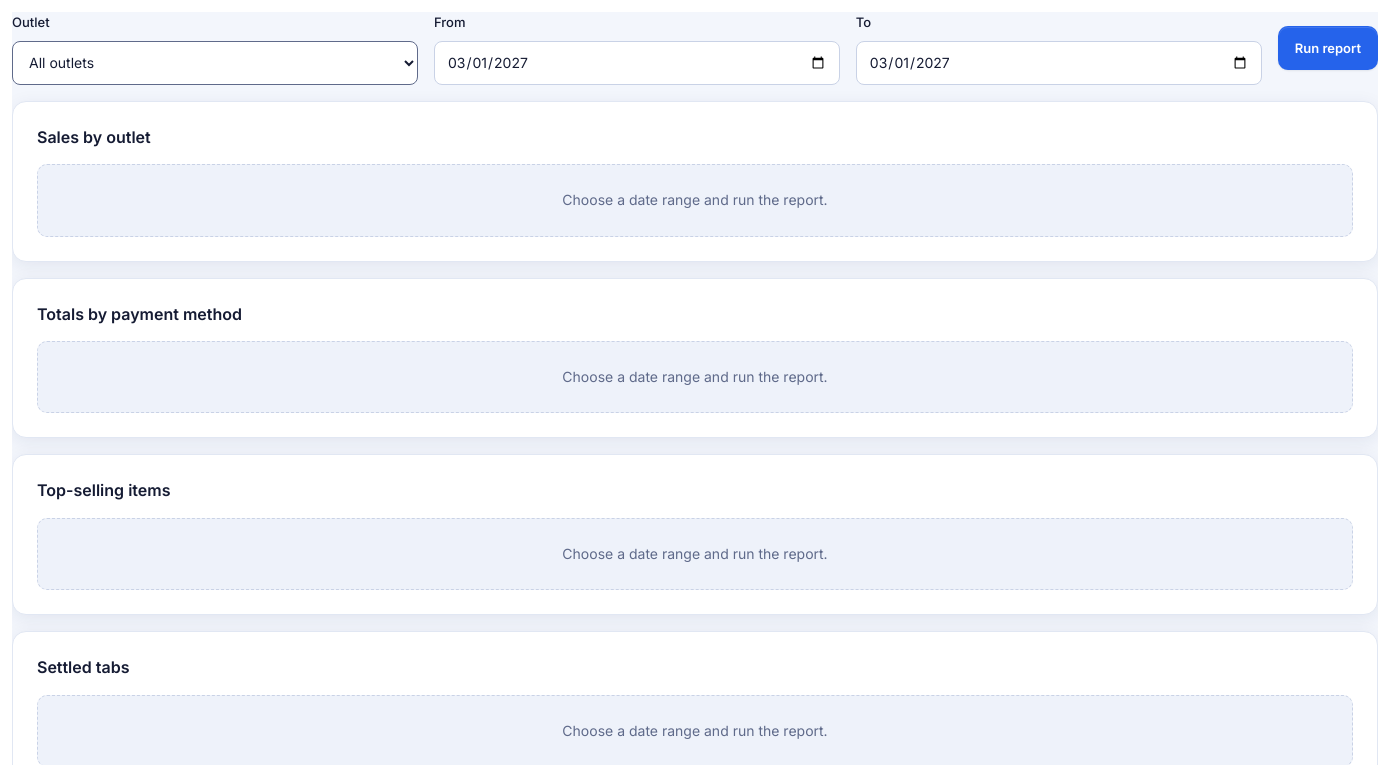
Test: <SalesTab> › shows every outlet sales, including an outlet that sold nothing as zero
The image size is (1390, 765).
Click the button "Run report". click: (1328,48)
box: [1278,26,1378,70]
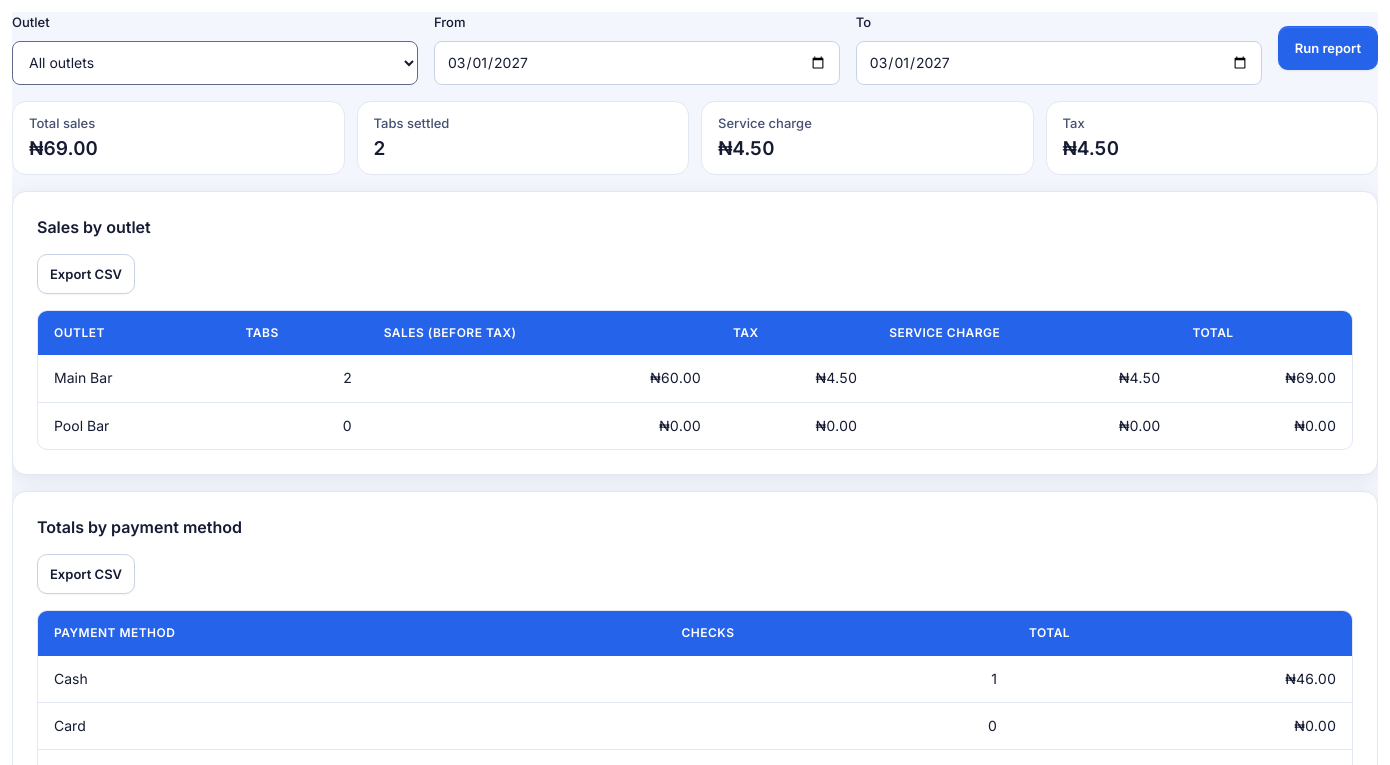
Result: the text "Main Bar" shows "69.00" at [1285,369,1336,386]
Result: the text "Pool Bar" shows "0.00" at [659,417,701,434]
Result: the text "Pool Bar" shows "0" at [343,417,352,434]
